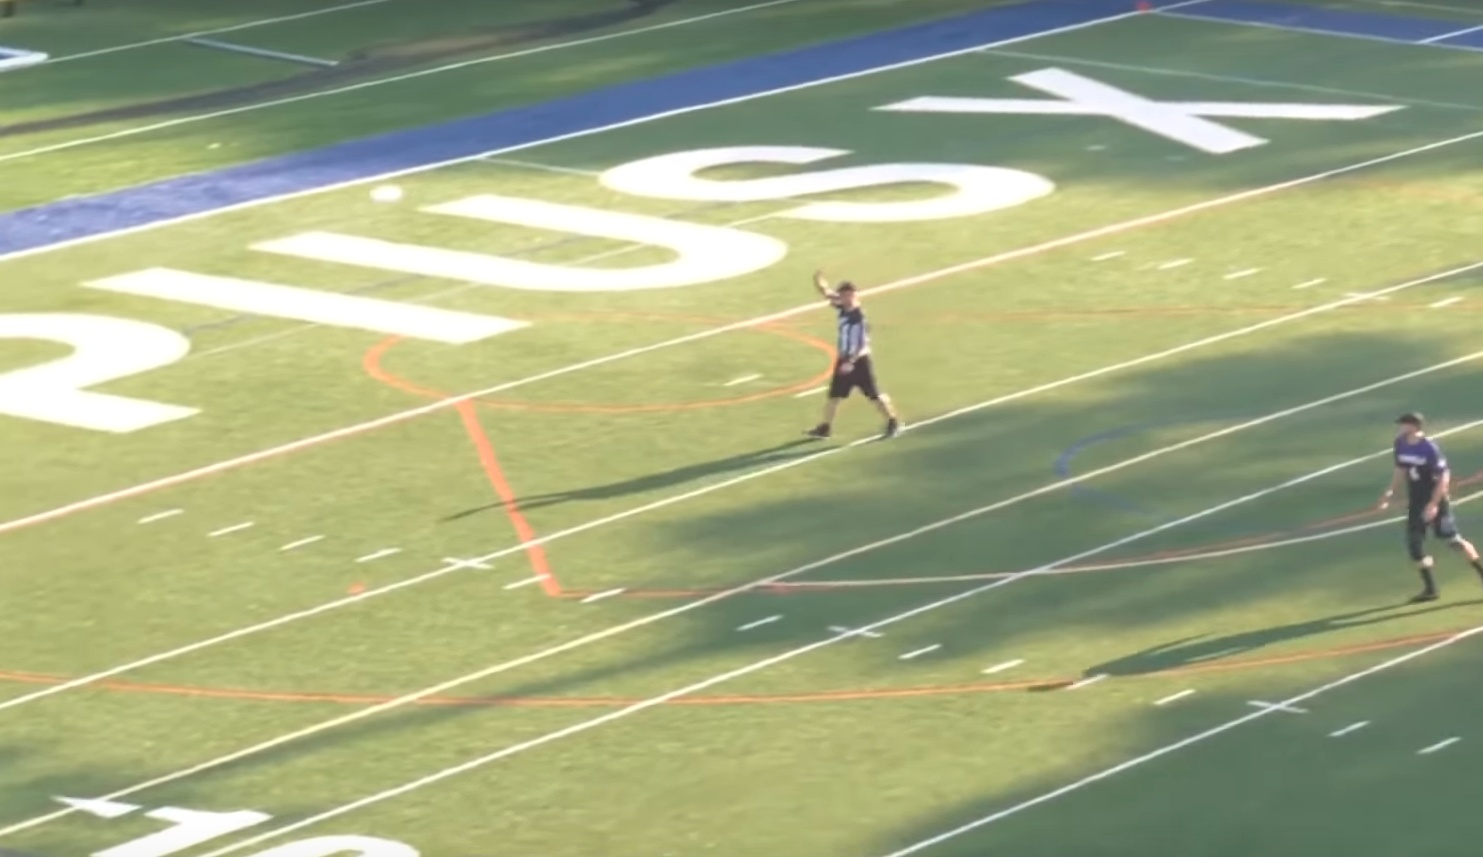frisbee: (370, 183, 402, 203)
